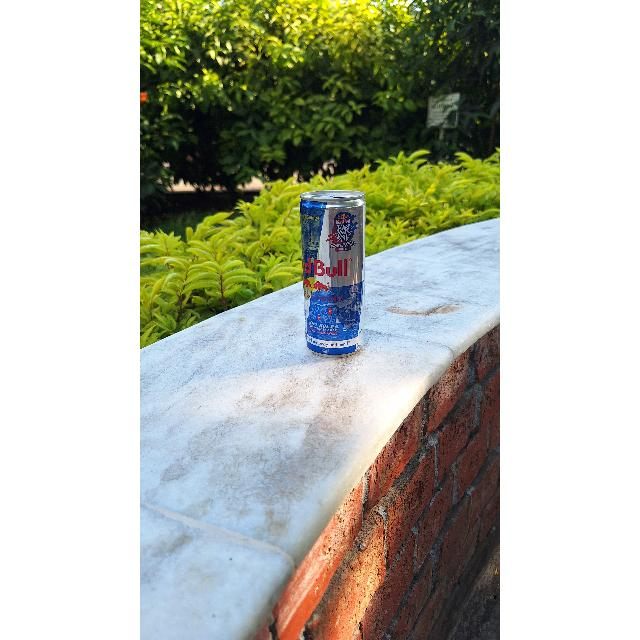Redbull DanceYourStyle: (297, 196, 367, 356)
